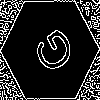G: (25, 25, 77, 82)
